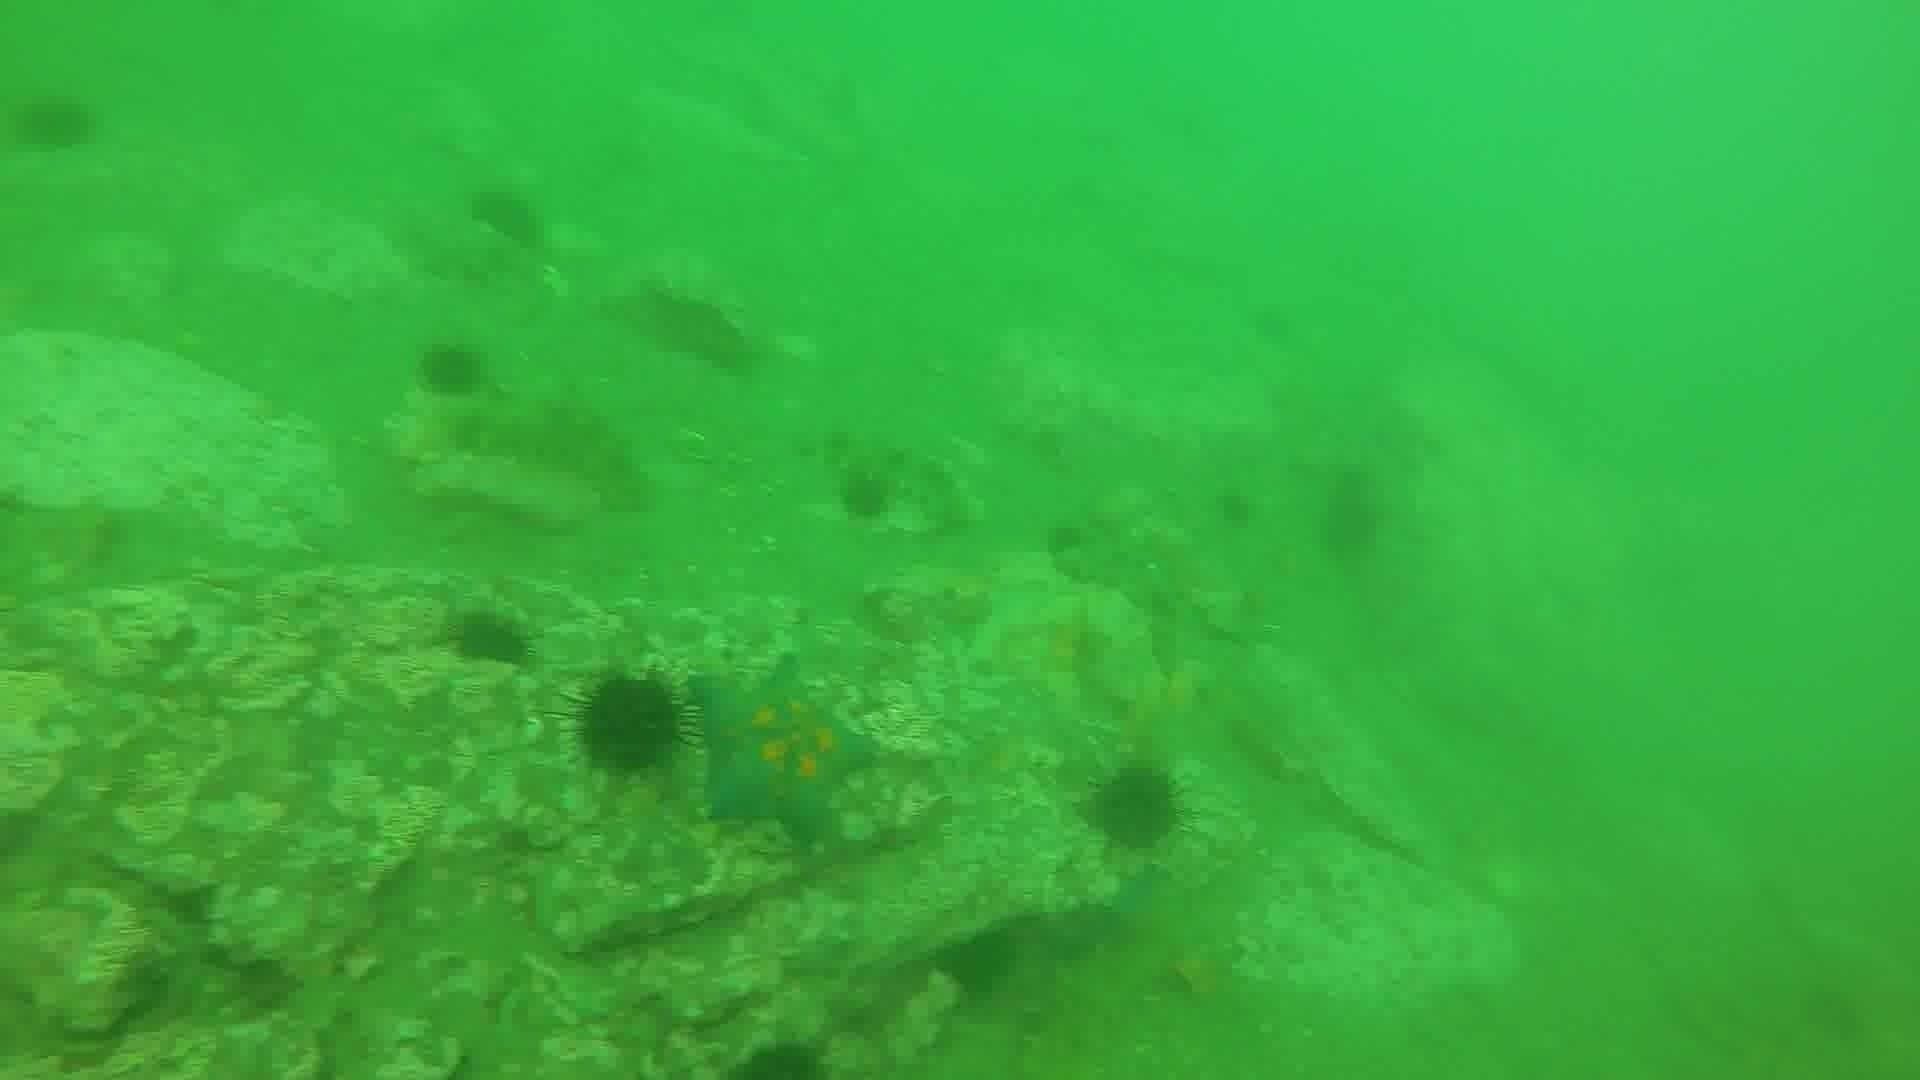echinus: (568, 667, 694, 781), (1080, 760, 1189, 856), (1313, 472, 1389, 564), (932, 927, 1021, 1004), (443, 605, 537, 674), (15, 88, 99, 157), (465, 182, 547, 251), (413, 338, 491, 402), (736, 1030, 831, 1079), (833, 465, 898, 525), (1251, 297, 1304, 347), (1039, 513, 1091, 563), (1209, 483, 1261, 531)
holothurian: (431, 389, 654, 502)
starfish: (684, 657, 880, 847)
